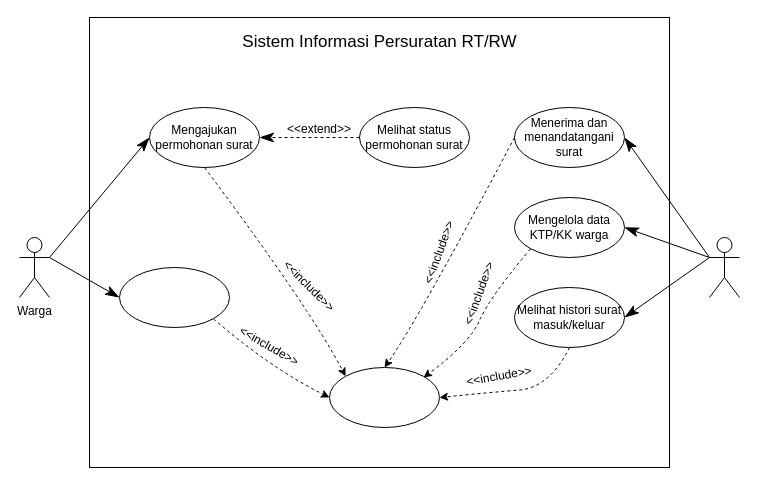
This 761x485 diagram has some shape labels left out. The centre of each missing label's shape, as x and y in pixels:
"Login" goes at (384,397).
"Melakukan input data KTP/KK" goes at (174,297).
"RT/RW" goes at (724,267).
